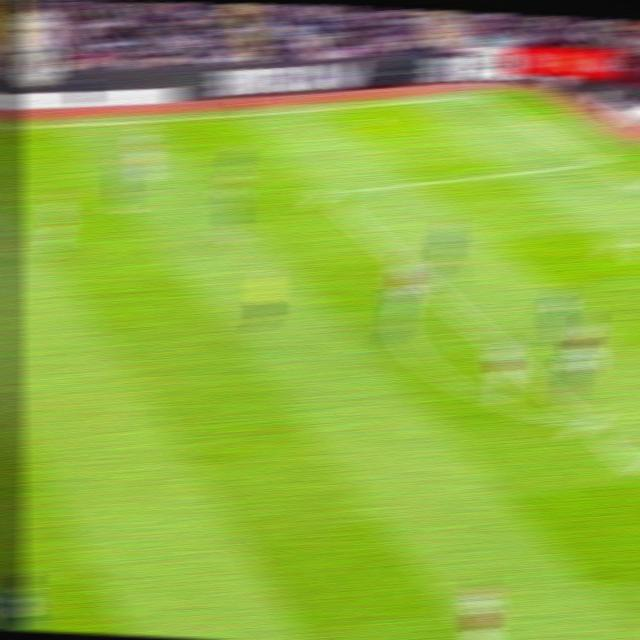bigarea_top_inner: (305, 176, 347, 209)
bigarea_top_outter: (577, 147, 614, 176)
bottom_arc_area_intersection: (565, 405, 608, 443)
corner: (462, 84, 498, 105)
smallarea_top_inner: (598, 228, 637, 260)
top_arc_area_intersection: (407, 265, 443, 296)
